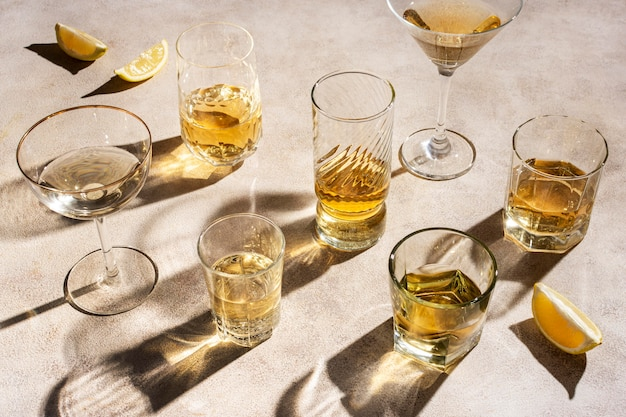alcohol: (15, 108, 173, 318), (386, 0, 523, 181), (383, 226, 498, 377), (500, 111, 609, 258), (308, 69, 394, 253), (191, 215, 294, 349), (174, 21, 264, 167)
